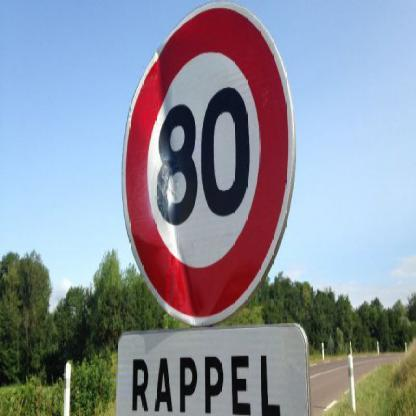Speed Limit 80: (126, 5, 282, 316)
